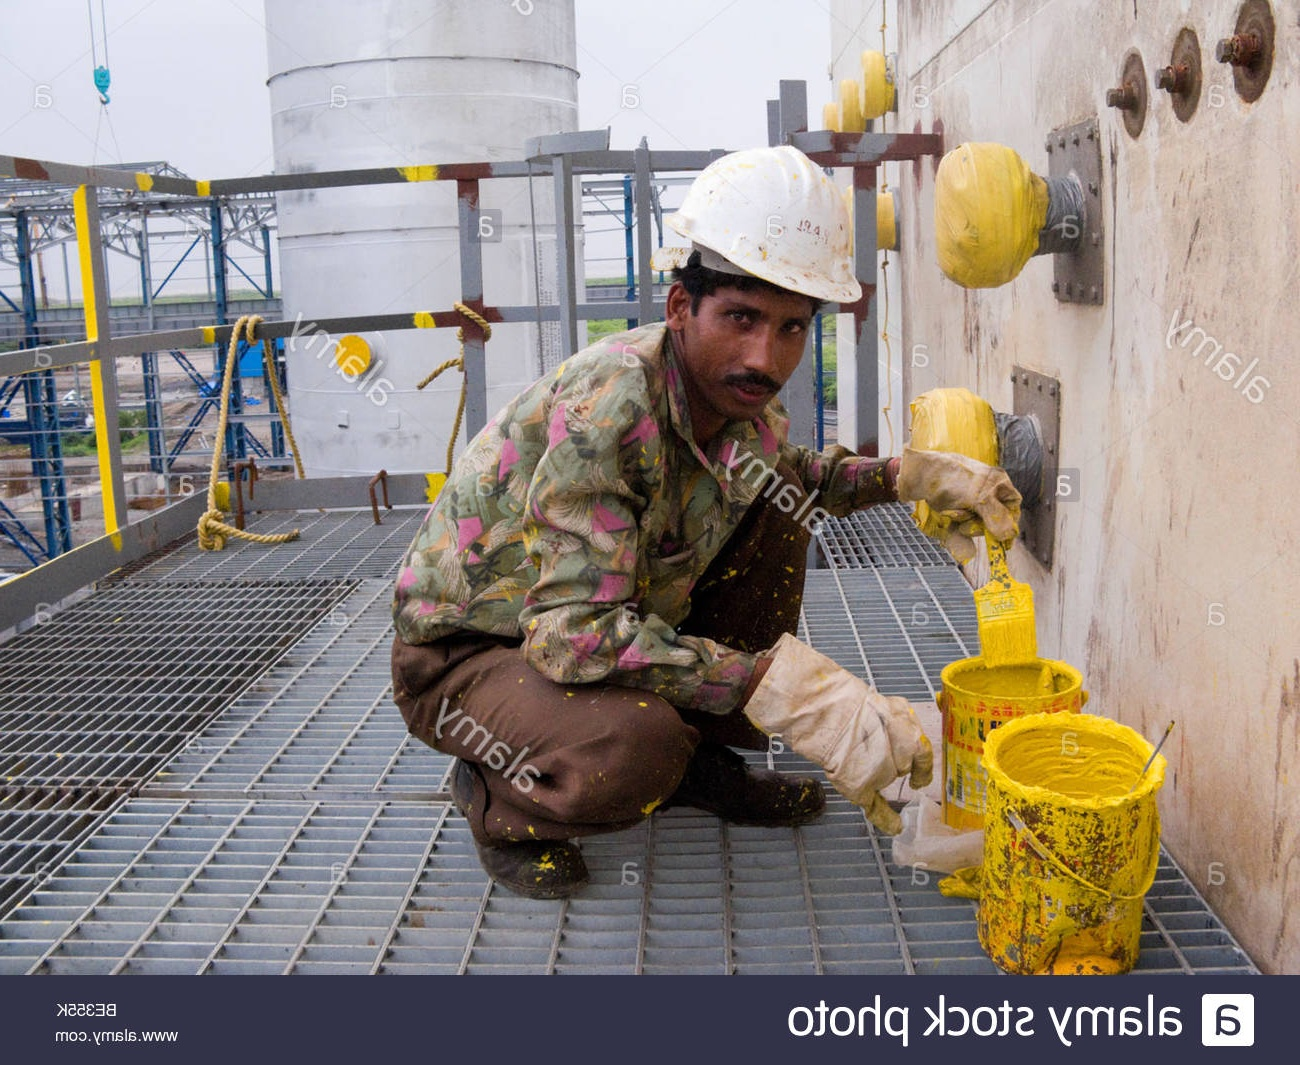NoJacket: (439, 147, 854, 666)
